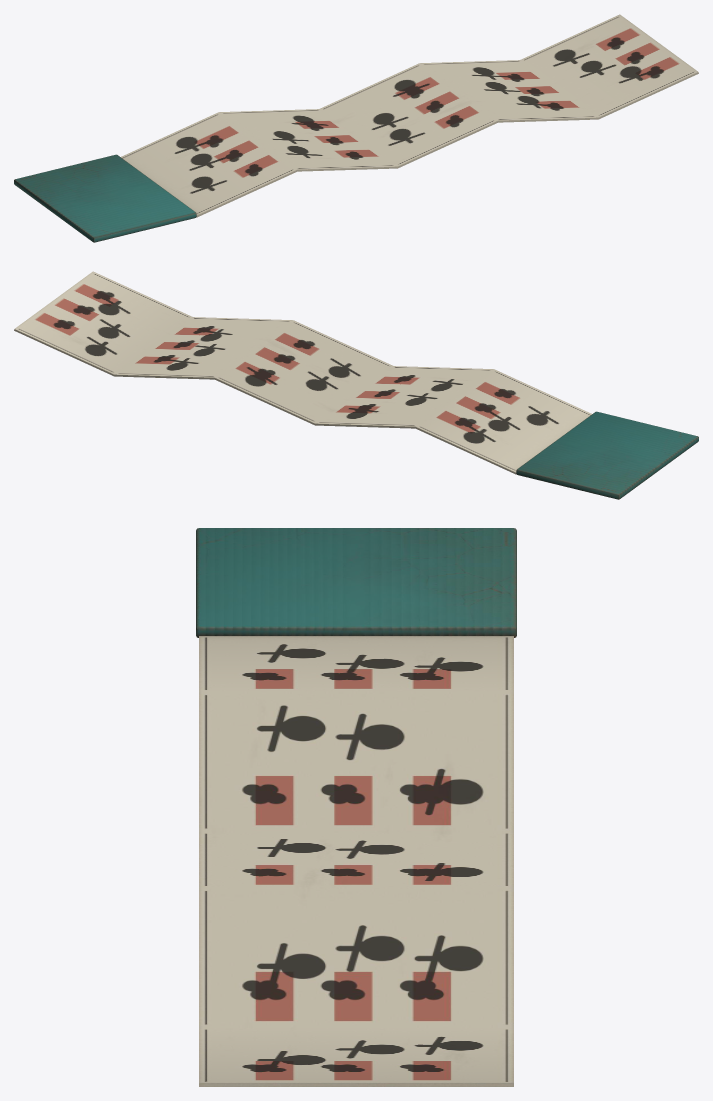
The model's file is codex.glb.
The picture shows the model from 3 angles, top to bottom: view 1: azimuth 30°, elevation 25°; view 2: azimuth 150°, elevation 25°; view 3: azimuth 270°, elevation 25°; orthographic projection. The views are drawn at different scales.
Visible parts, largest first — view 1: codex; view 2: codex; view 3: codex.
Boxes of the visible parts, bbox=[...] form: codex: bbox=[14, 14, 698, 242]; codex: bbox=[14, 271, 698, 499]; codex: bbox=[196, 528, 516, 1086].
Size of the model in its own units: 0.8888 by 0.0326 by 0.204.
1 material, 1 textured.
